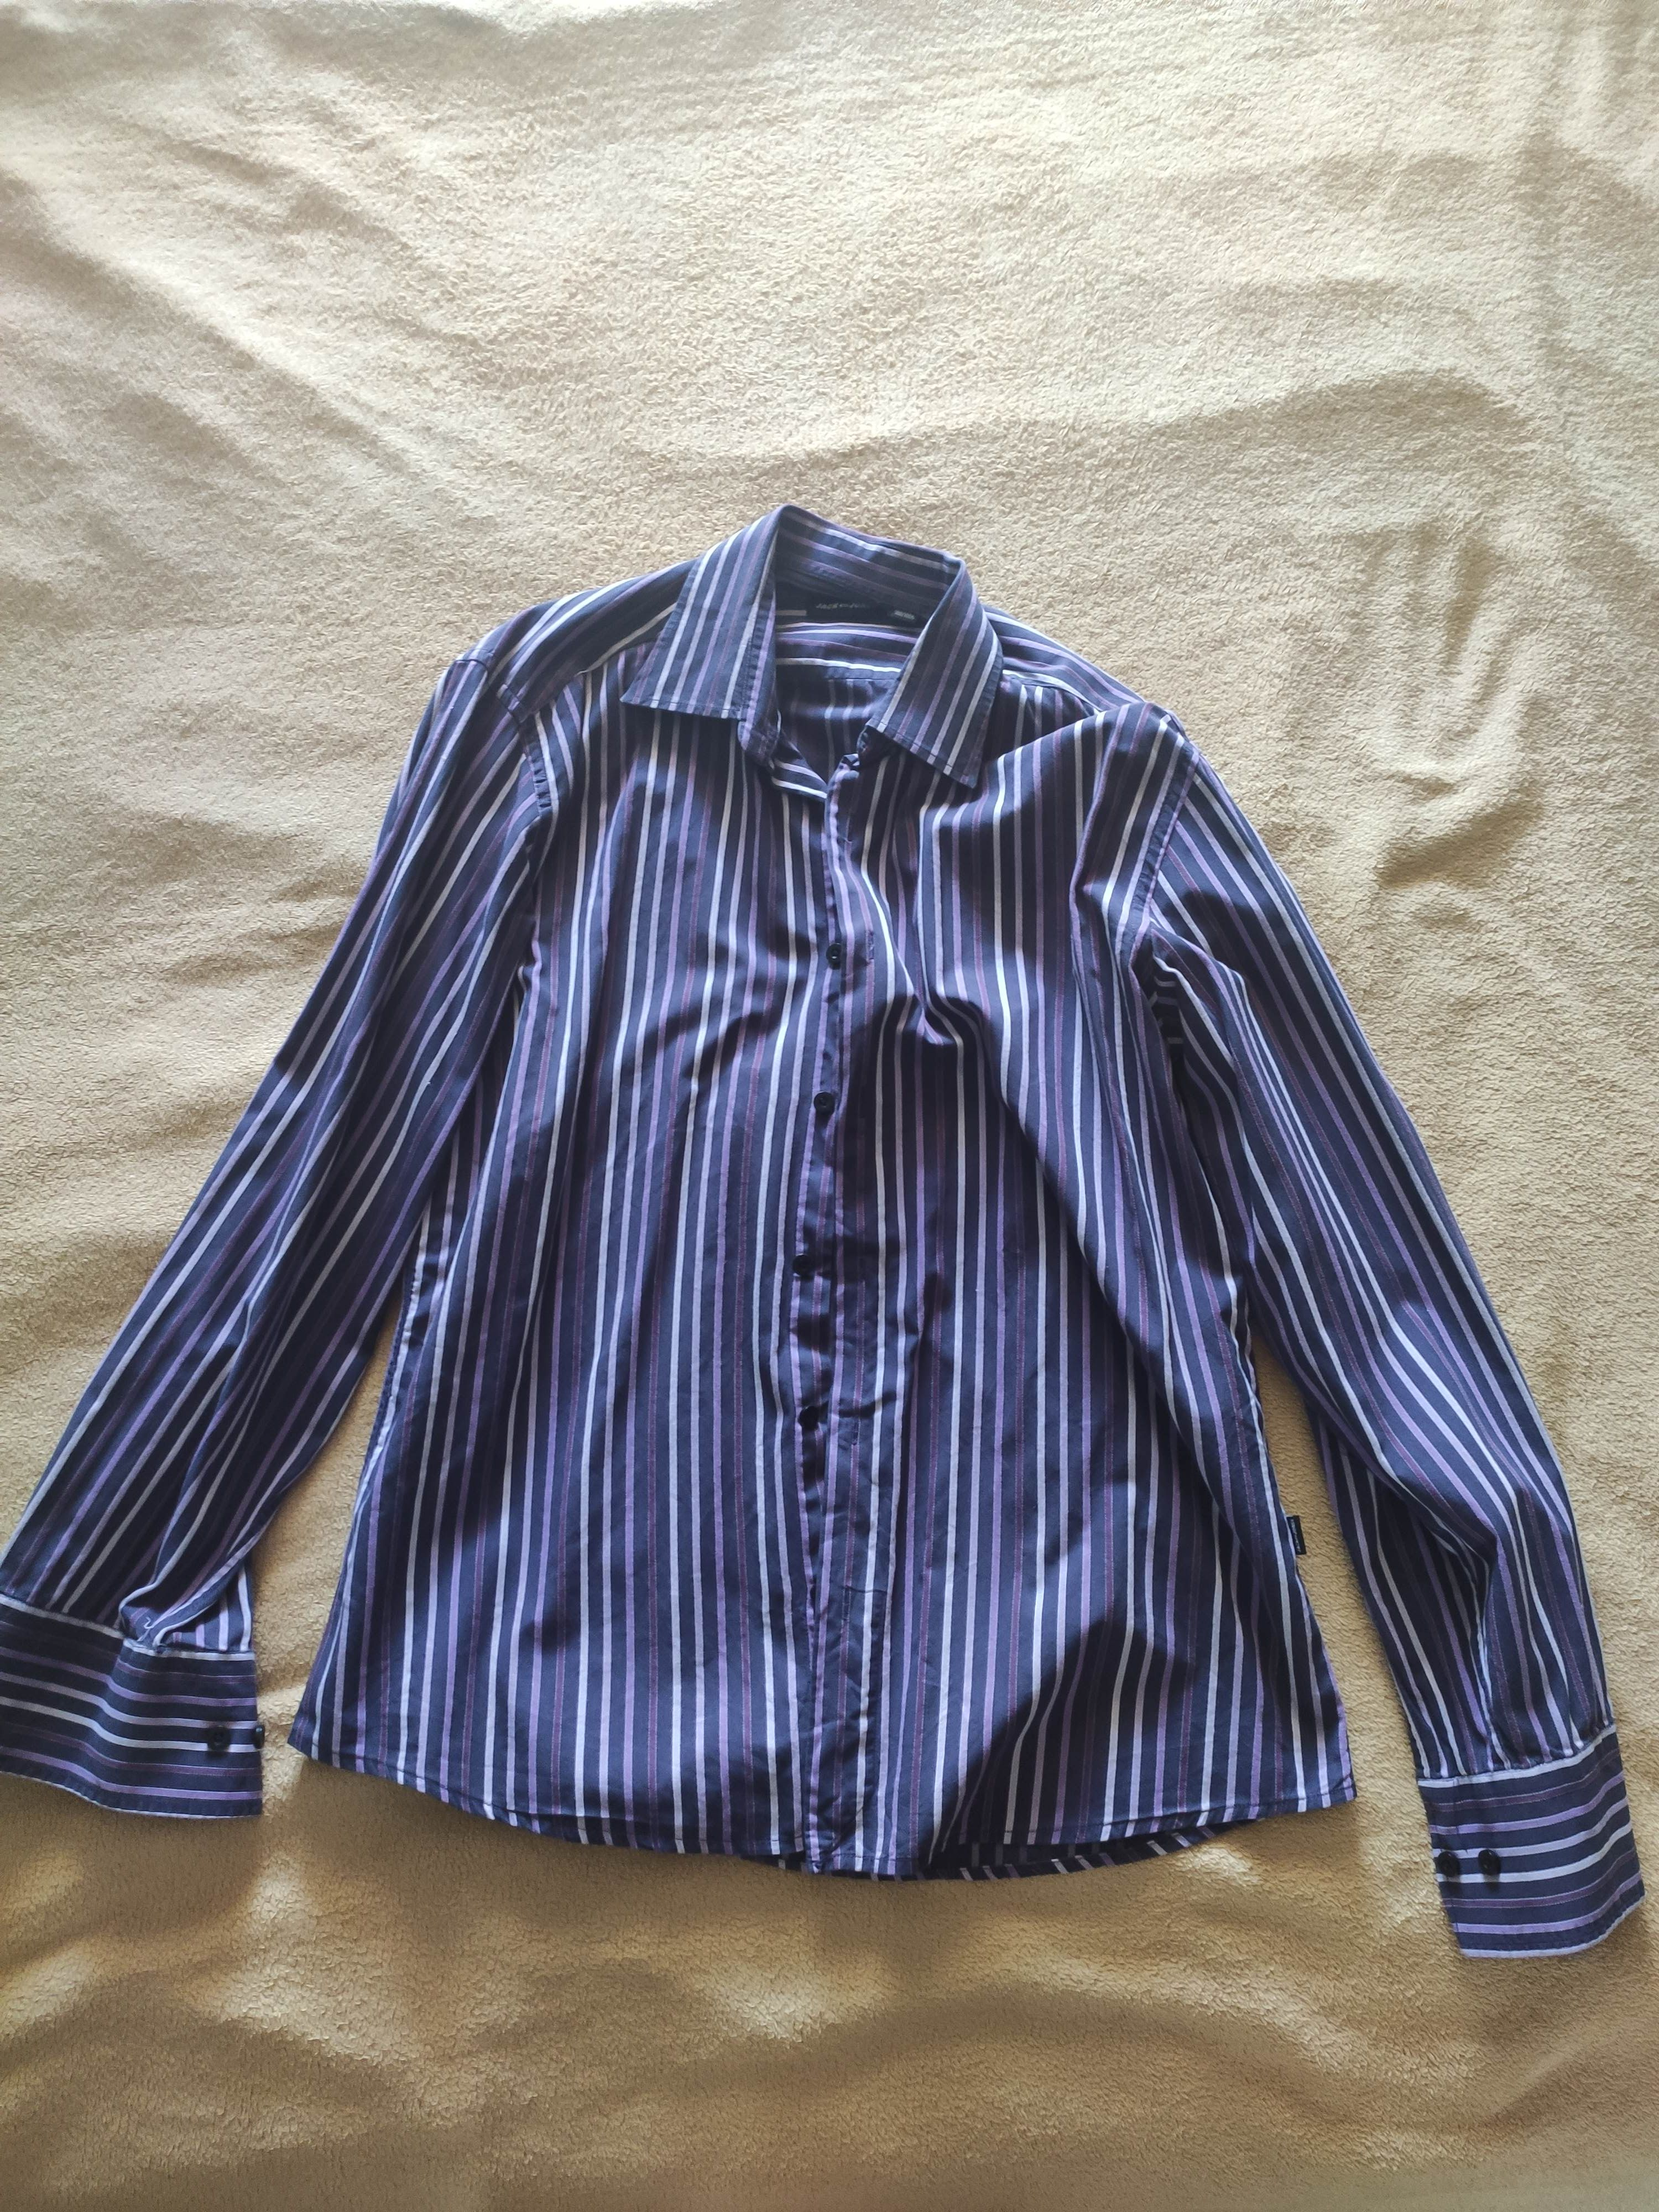clothes: (9, 495, 1659, 1972)
